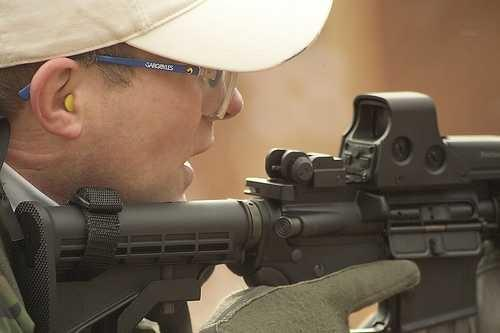heavyweapon: (14, 88, 500, 333)
